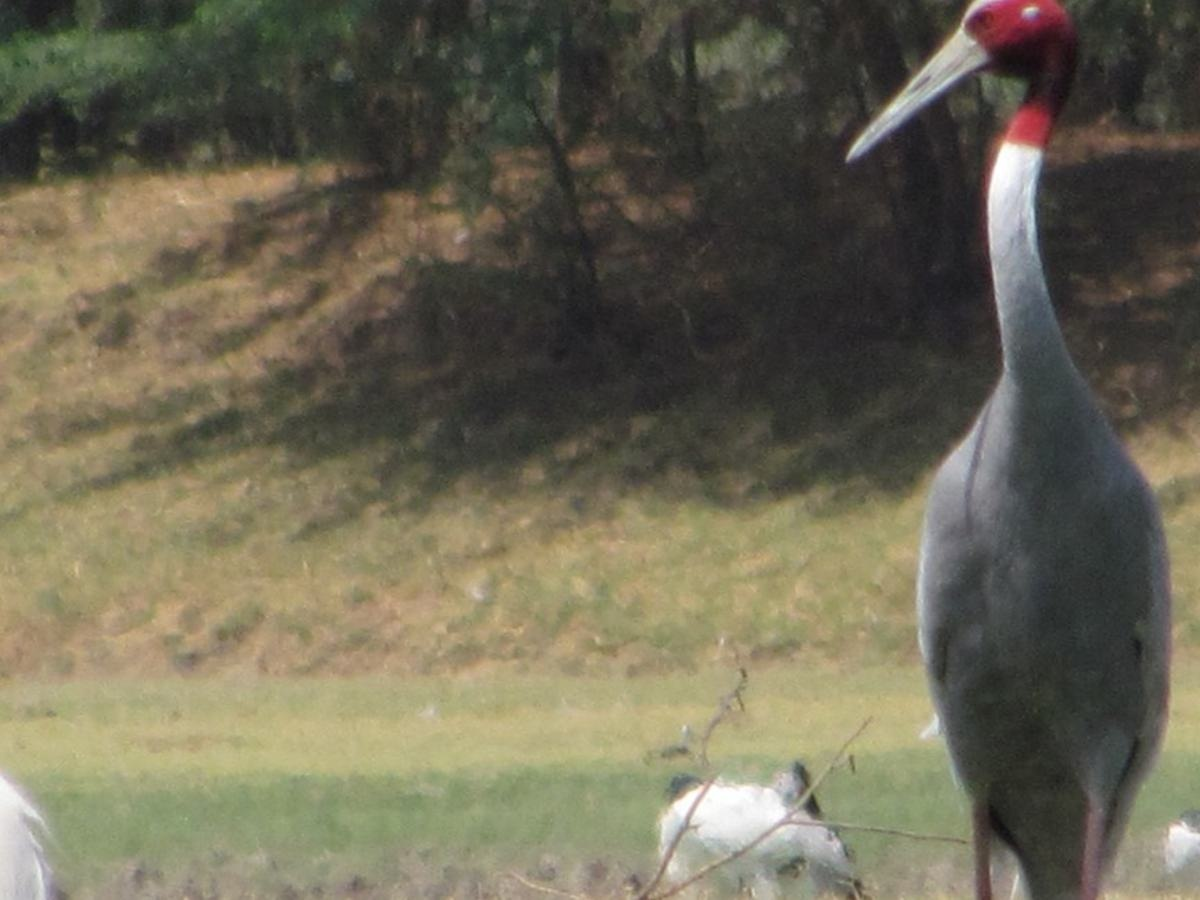crane: (831, 1, 1200, 900)
